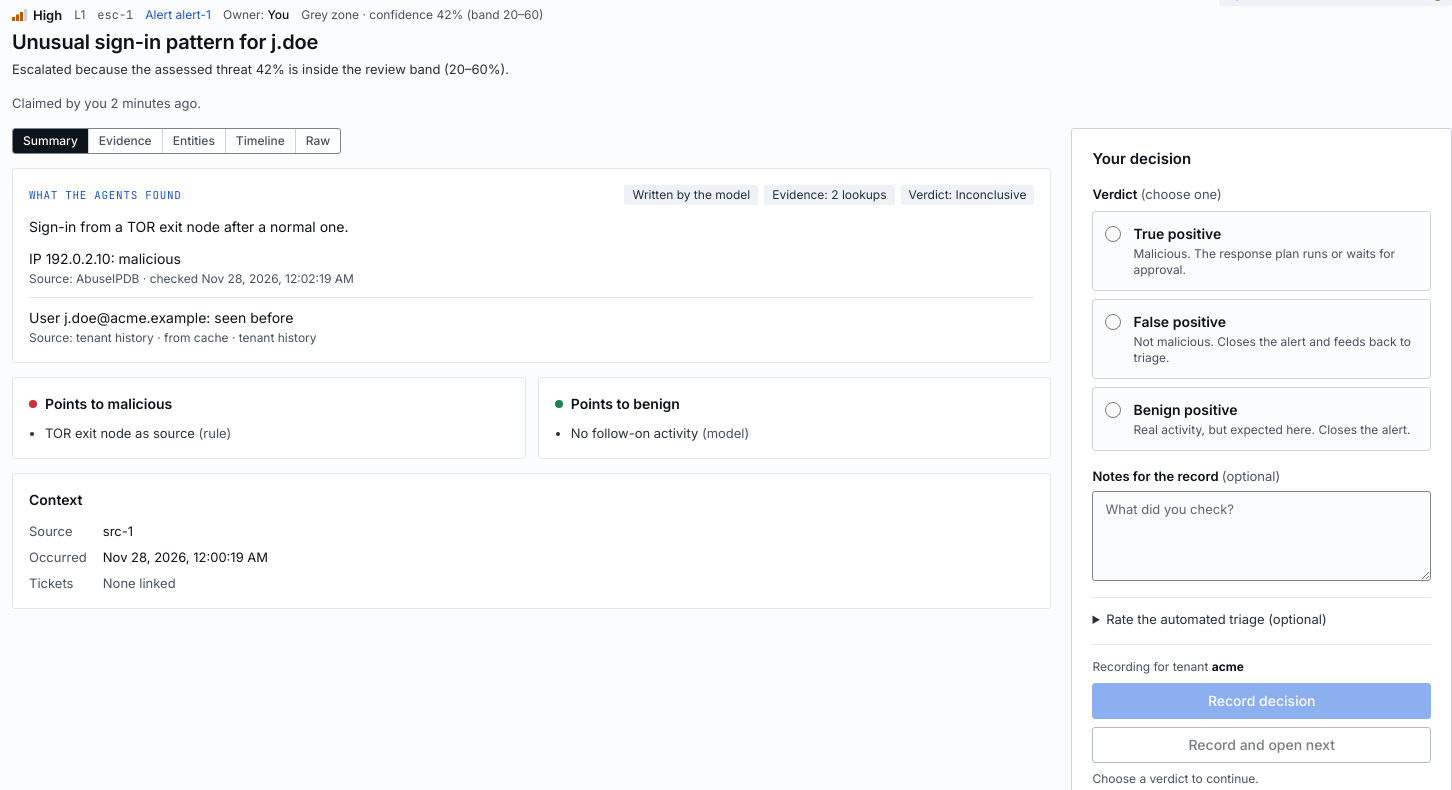
Test case: decision form › looks through further pages for the next escalation
Check: the heading "Unusual sign-in pattern for j.doe" is shown, box [12,30,318,54]
Click the radio button labelled "Benign positive": (1114, 410) [1106,402,1122,418]
(page scrolled)
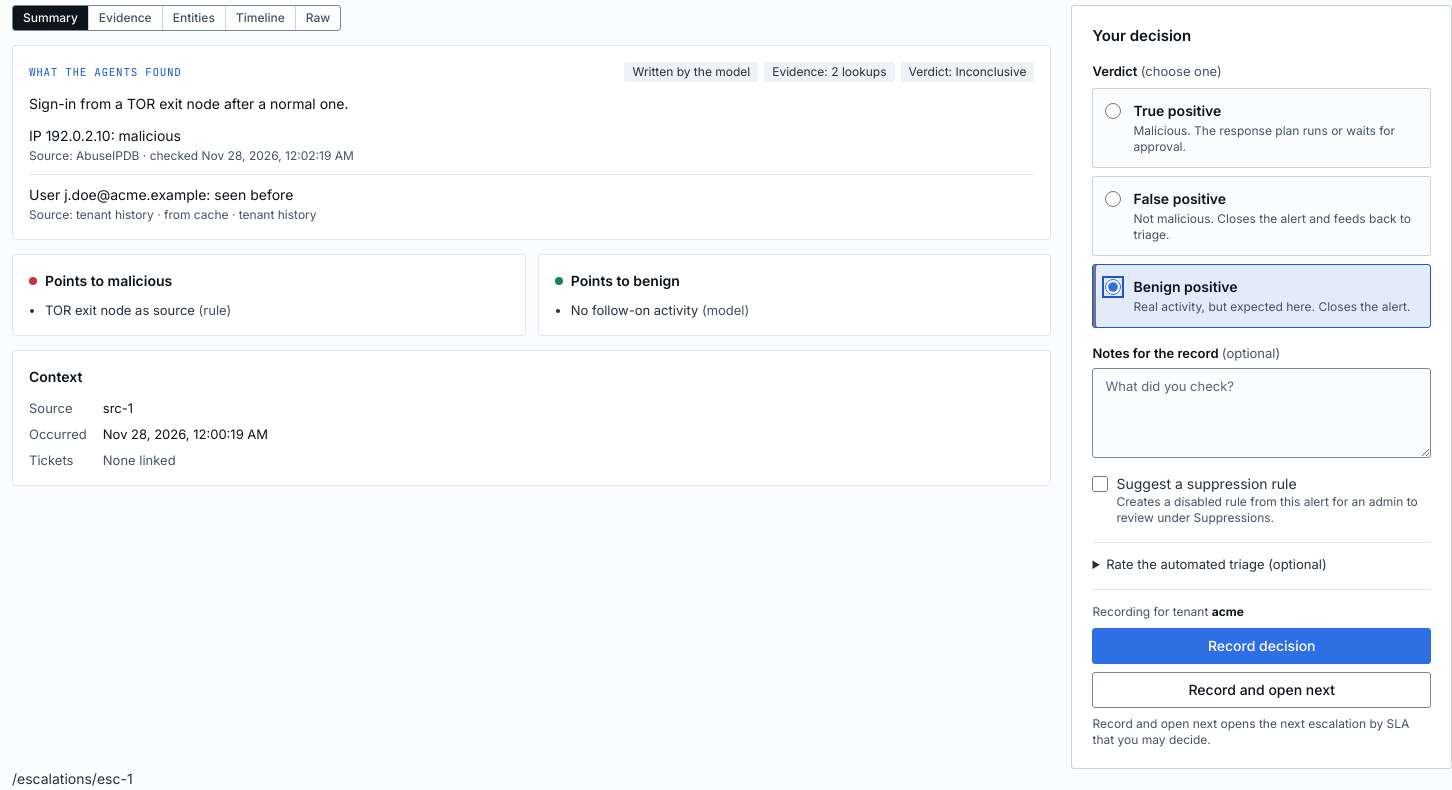
Click the button "Record and open next": (1262, 690) [1092,672,1431,708]
(page scrolled)
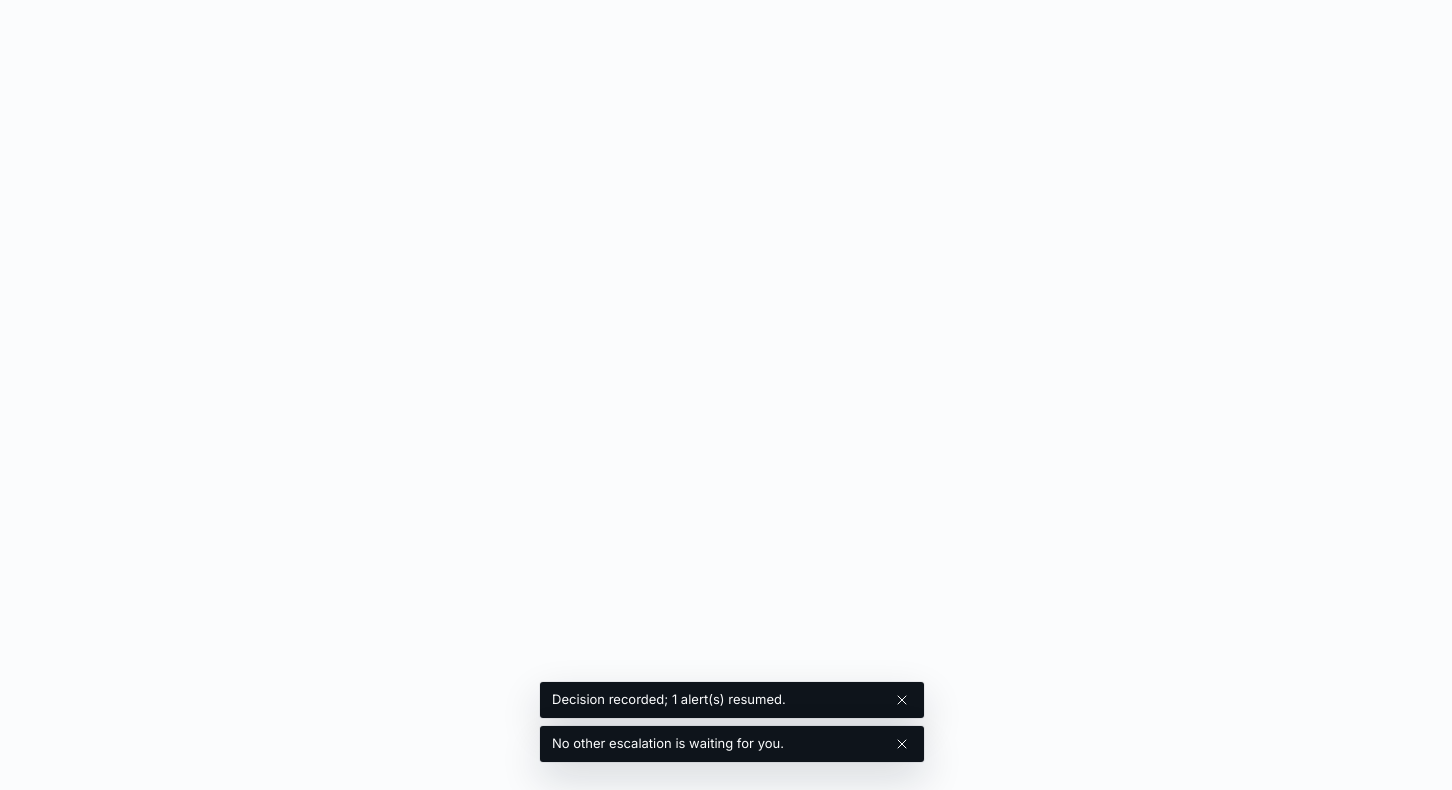
Check: the text "No other escalation is waiting for you." is shown, box [552,735,784,751]
